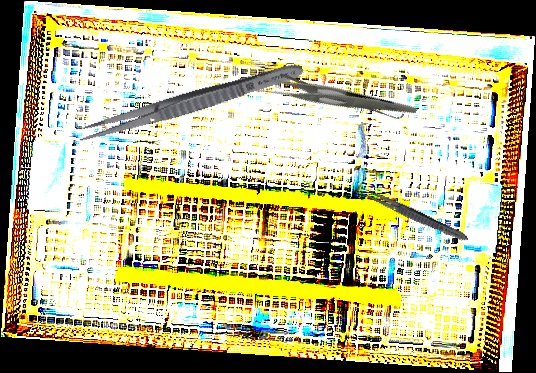Dressing Forceps: (250, 34, 419, 163), (75, 57, 306, 149), (357, 185, 471, 245)
Hook Surgical: (278, 28, 406, 162)
